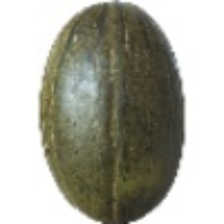honeydew: (37, 0, 196, 196)
